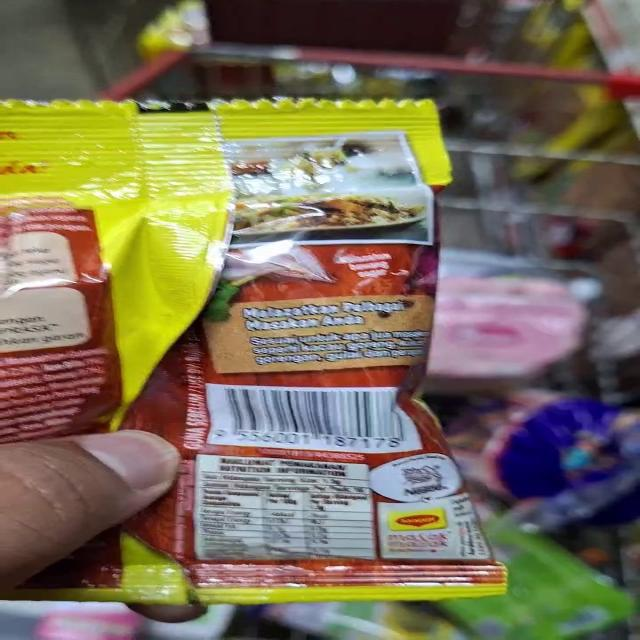Maggi Cukup Rasa: (0, 100, 512, 592)
